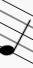E: (1, 1, 31, 66)
